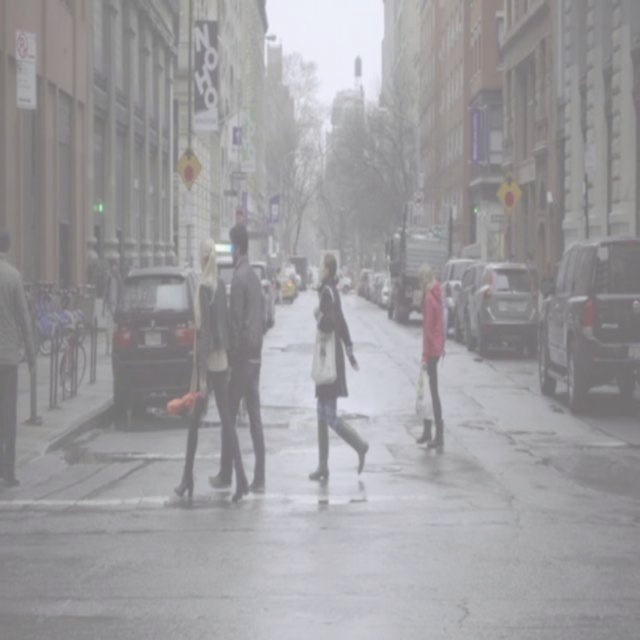pessoa: (172, 232, 252, 504), (205, 217, 268, 496), (306, 249, 369, 484), (0, 226, 37, 490), (412, 258, 448, 451), (100, 258, 122, 358), (538, 258, 556, 336), (522, 249, 536, 320), (270, 266, 286, 310), (121, 254, 133, 276), (340, 257, 350, 279), (504, 249, 517, 264), (180, 257, 190, 271), (524, 249, 529, 264)
